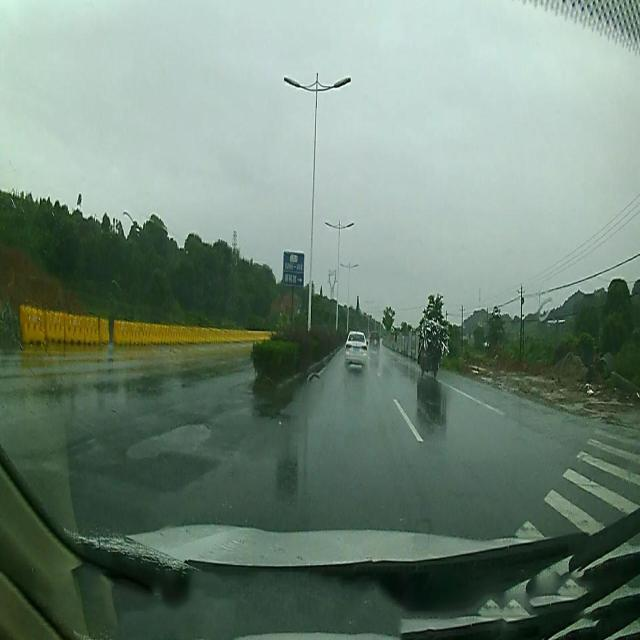car: (344, 330, 367, 370), (367, 331, 380, 353)
